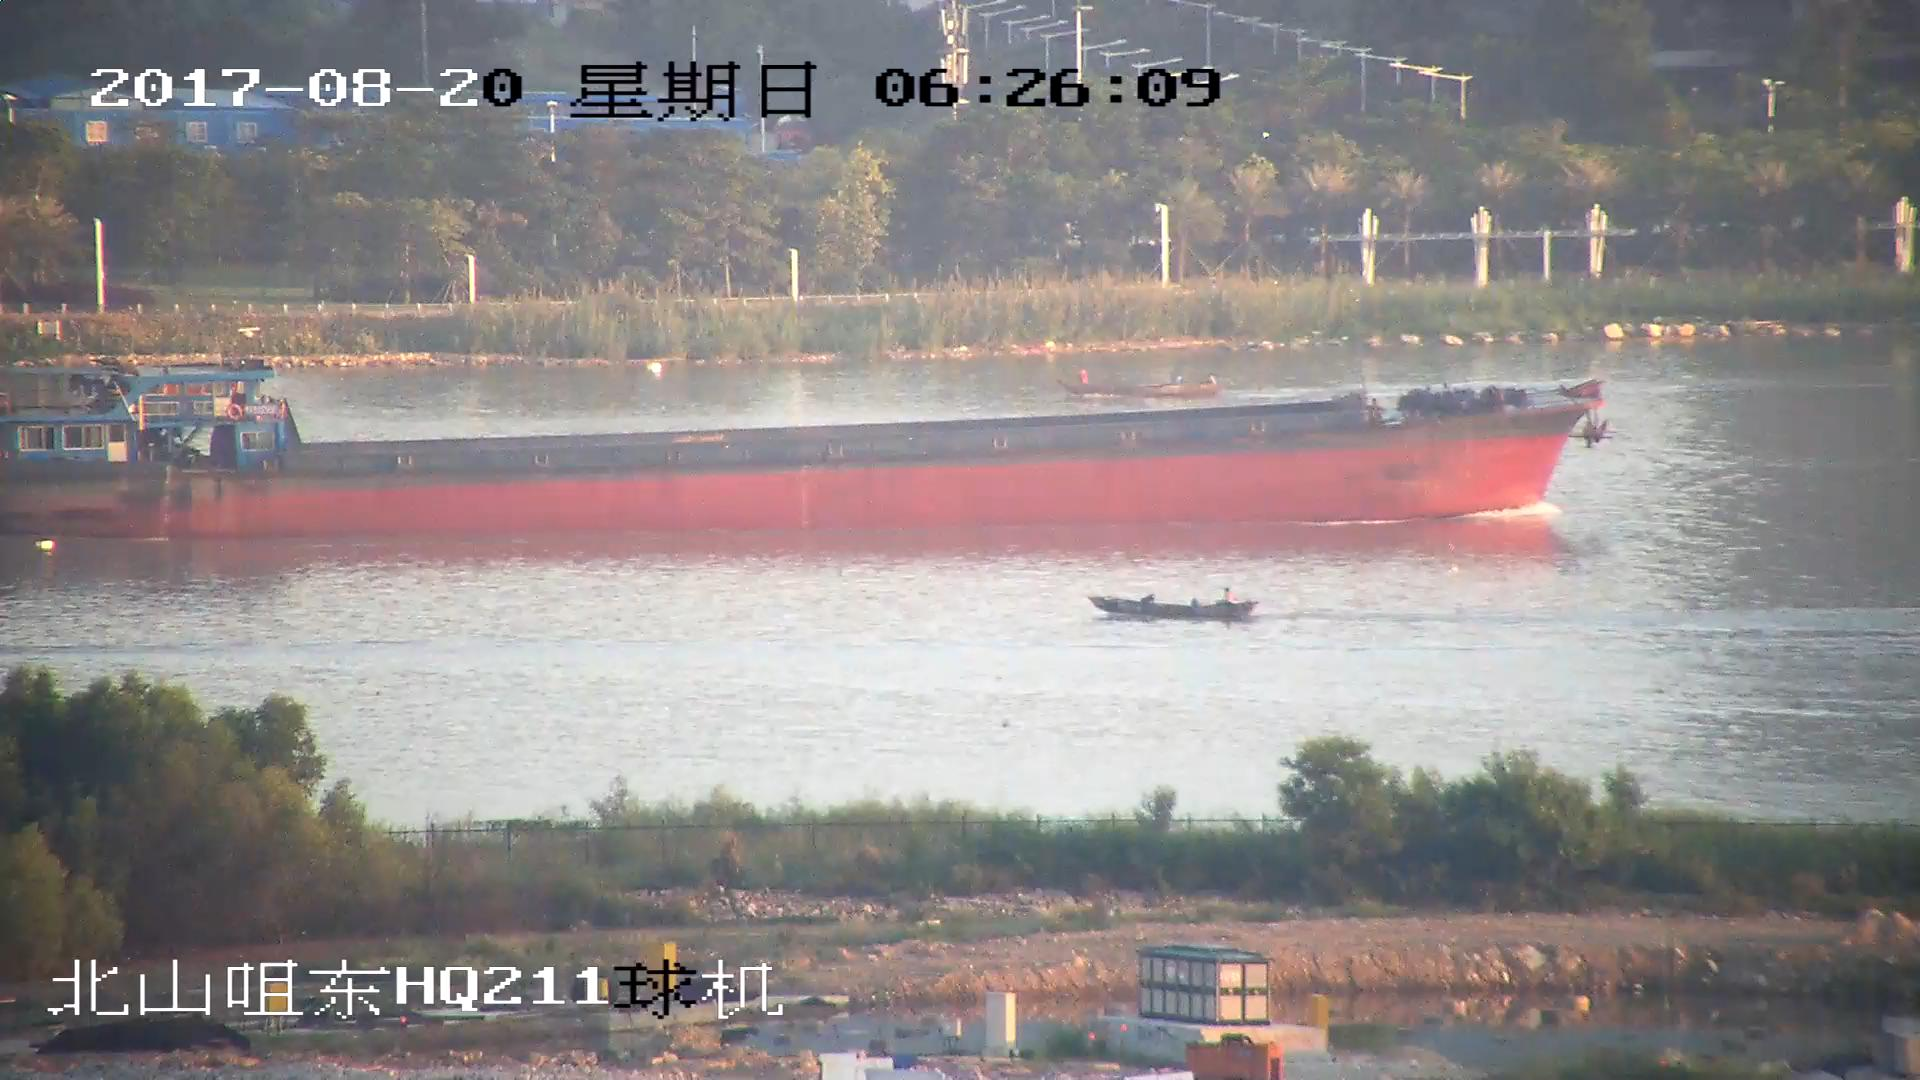bulk cargo carrier: (1, 357, 1599, 538)
fishing boat: (1056, 361, 1228, 402), (1087, 588, 1256, 621)
